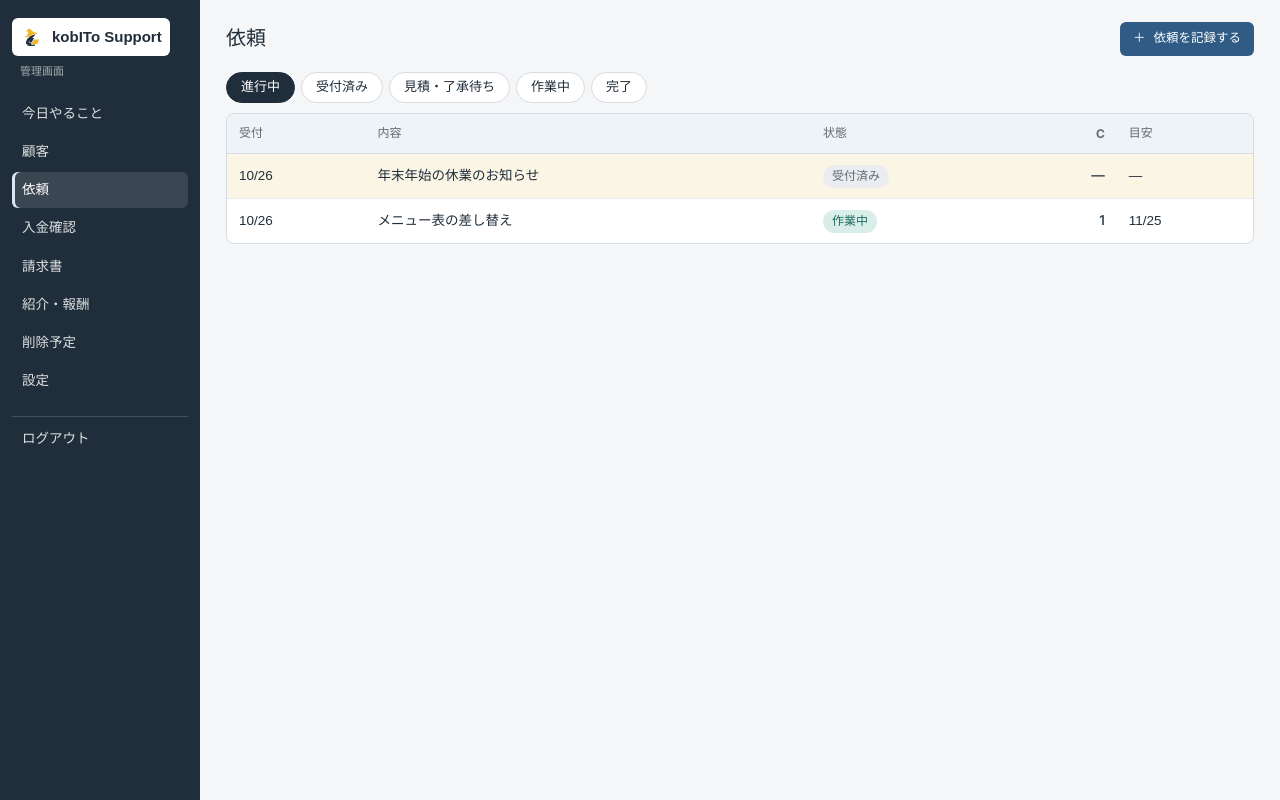
Scenario: a05 requests › lists requests in a table with status chips
Expected: the heading "依頼" is shown, [226,24,266,53]
Expected: the column headings read "受付", "内容", "状態", "C", "目安", in this order, [227,114,366,153]; [366,114,811,153]; [811,114,1027,153]; [1027,114,1117,153]; [1117,114,1253,153]
Click the button "作業中": {"x": 550, "y": 87} [516,72,585,103]
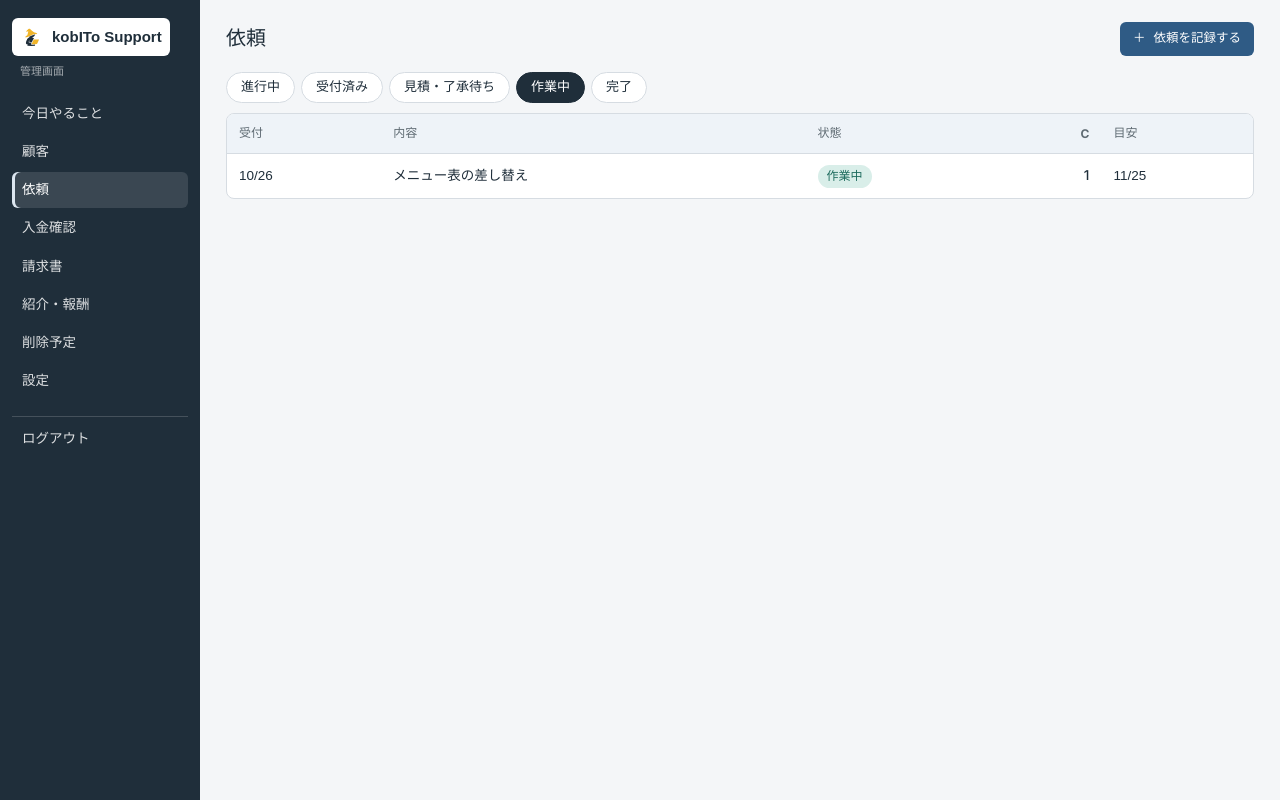
Expected: the link "＋ 依頼を記録する" is shown, [1120,22,1254,56]
Now the link "年末年始の休業のお知らせ" is gone
Now the text "メニュー表の差し替え" is shown, box [393,168,528,183]
